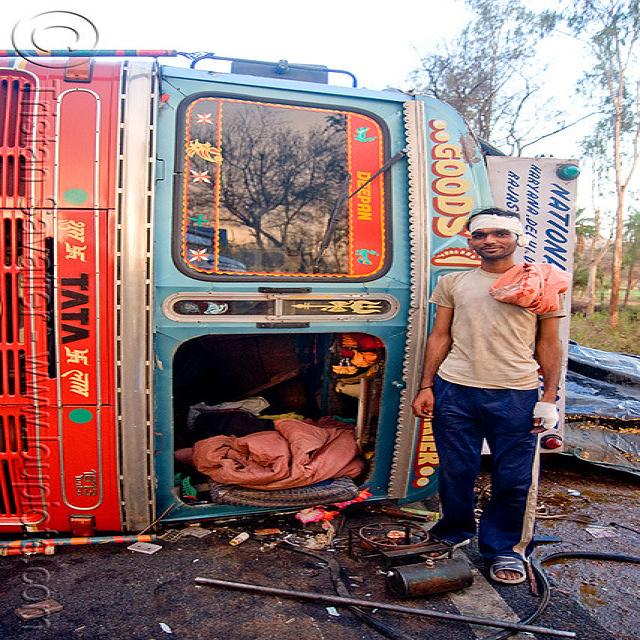accident: (0, 50, 493, 534)
